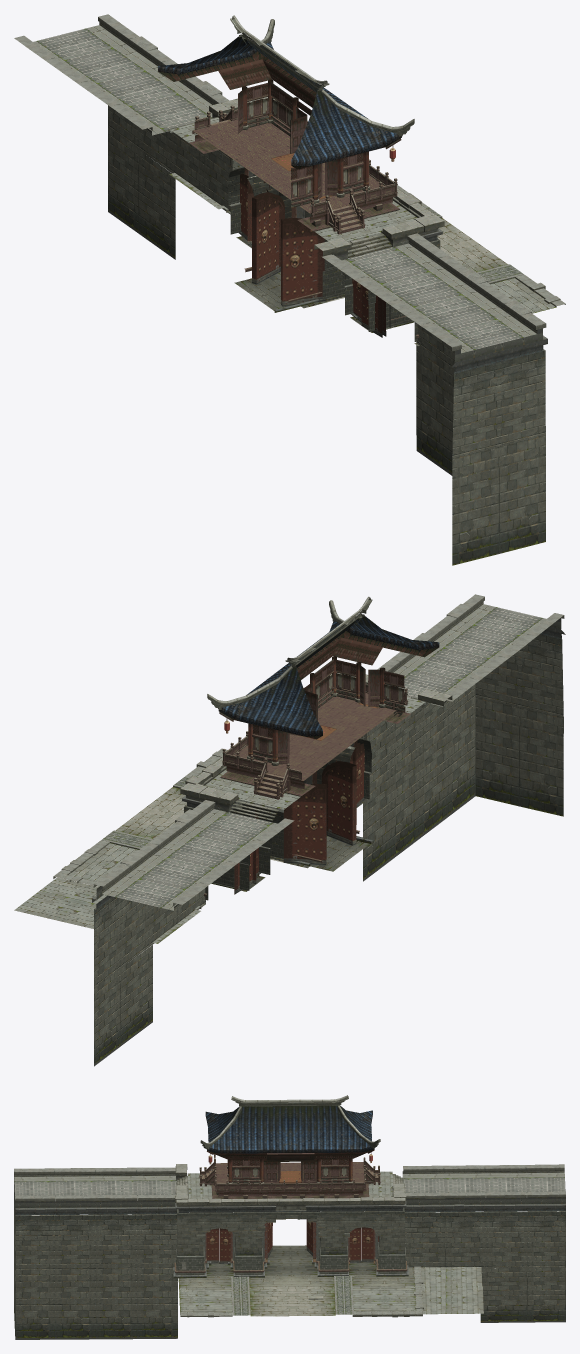
Rendered from 4001_Item_chengmen_1.FBX.
3 views of the same model, one above another, from view 1: azimuth 30°, elevation 25°; view 2: azimuth 150°, elevation 25°; view 3: azimuth 270°, elevation 25° (orthographic). The views are drawn at different scales.
Visible parts, largest first — view 1: 4001_Item_chengmen_1; view 2: 4001_Item_chengmen_1; view 3: 4001_Item_chengmen_1.
Part boxes in pixels (<box>): 4001_Item_chengmen_1: <box>14,14,565,565</box>; 4001_Item_chengmen_1: <box>14,594,565,1066</box>; 4001_Item_chengmen_1: <box>14,1095,565,1339</box>.
Bounding box in the file's own units: 16.01 × 20.68 × 45.5.
